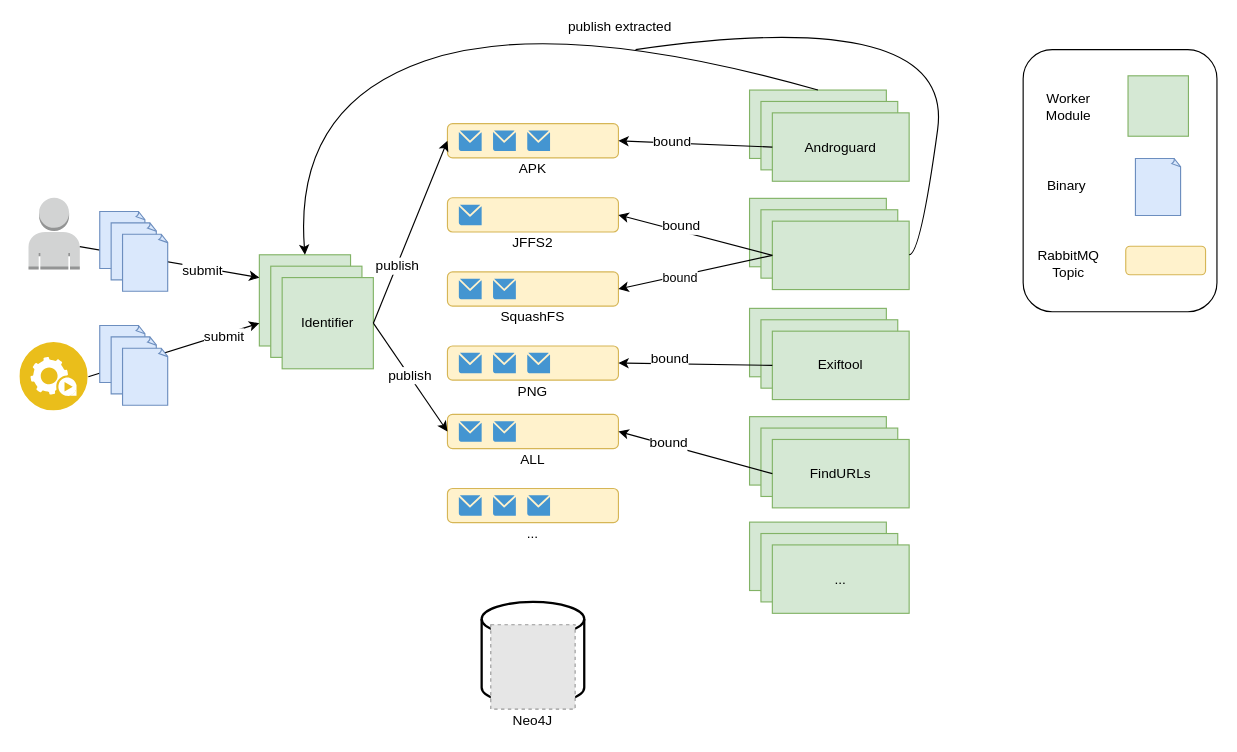
This 1237x752 diagram has some shape labels left out. Grey dashed boxes stand in for pictures. The centre of each missing label's shape, as x and y in pixels:
"Binwalk" belongs at (840,255).
"CLI" belongs at (53,233).
"REST" belongs at (53,376).
